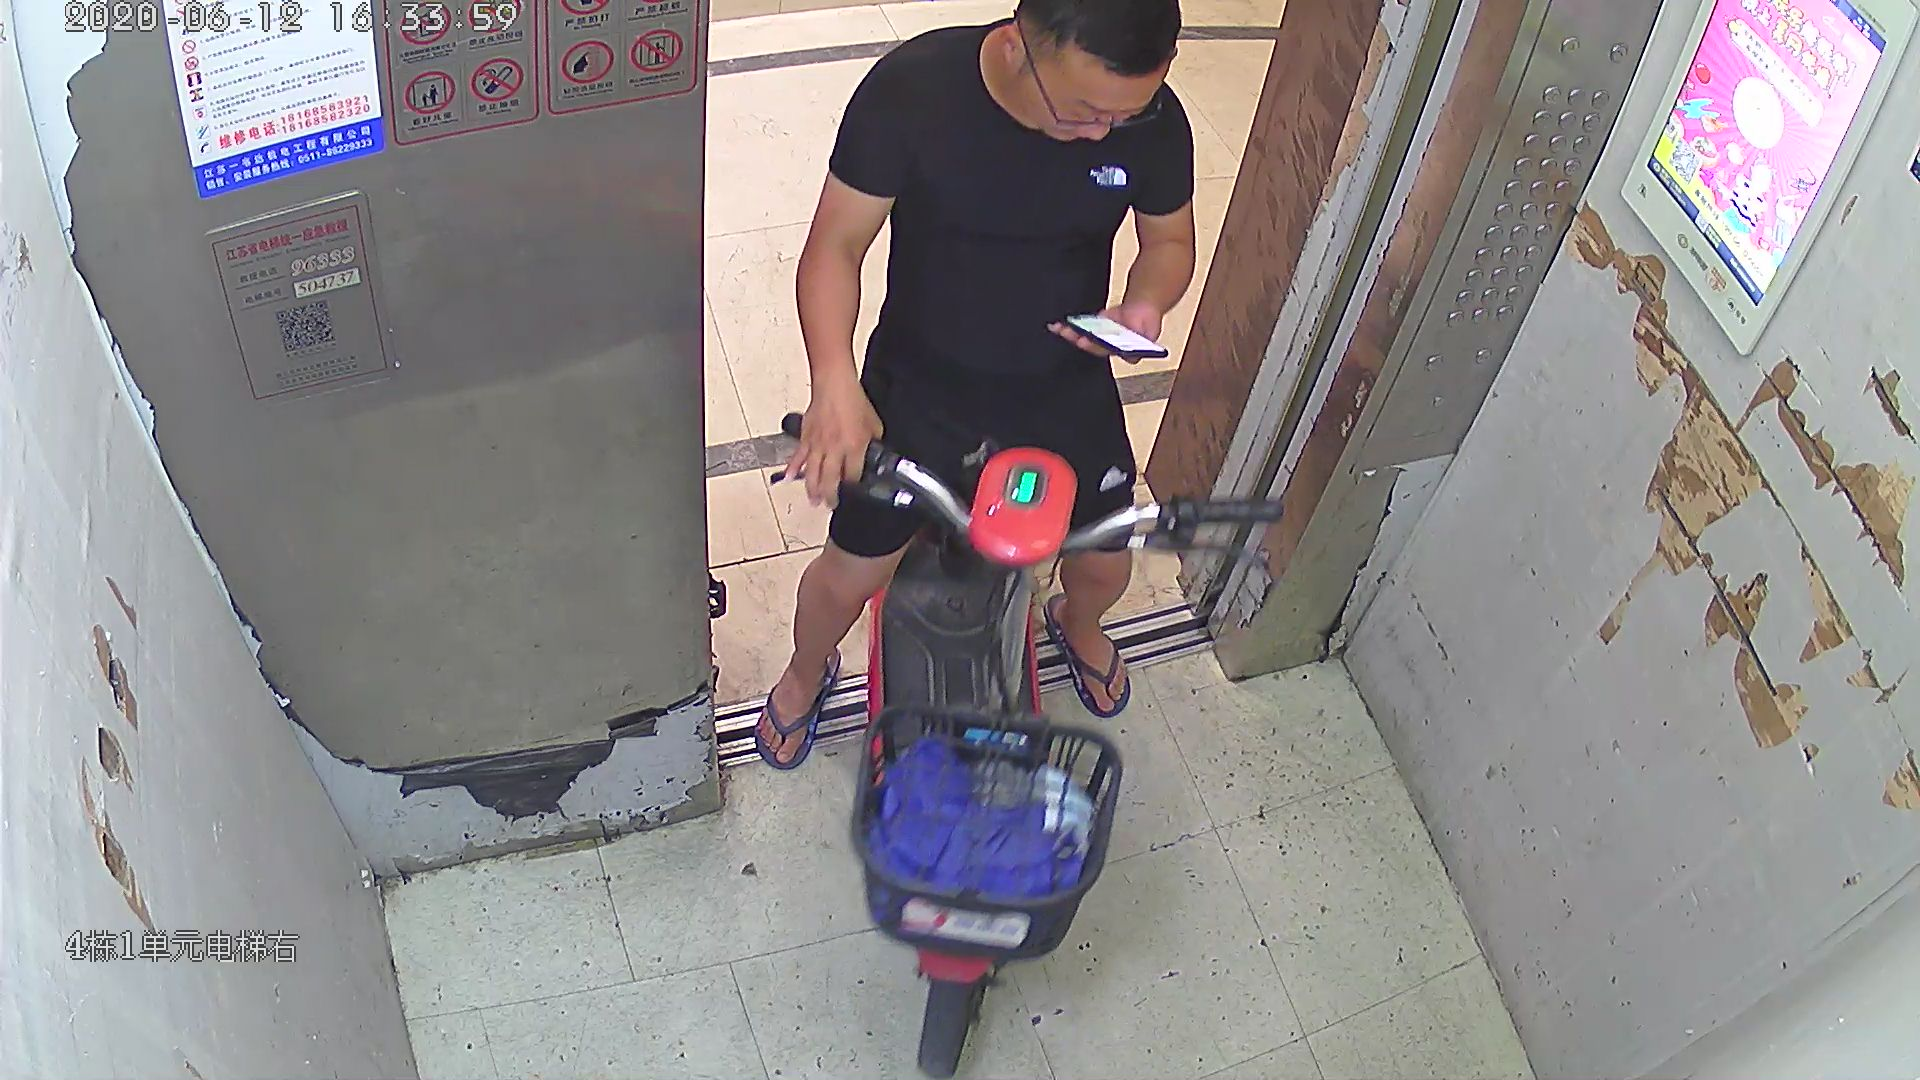Electric-bicycle: (786, 405, 1280, 1080)
